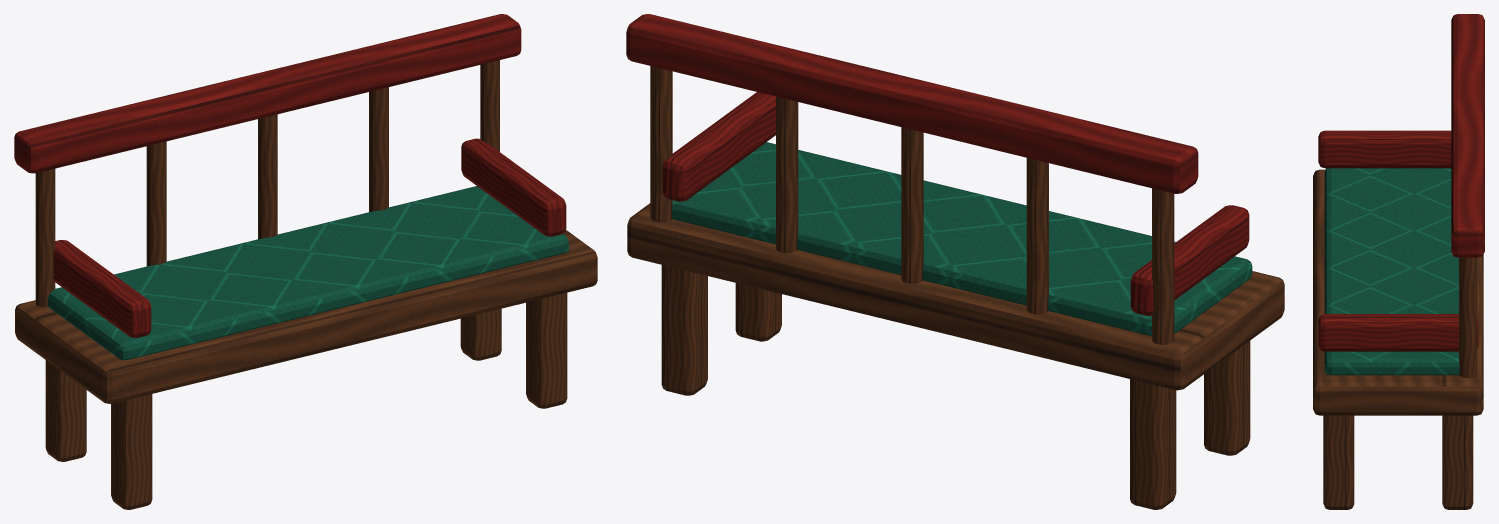
File: court_bench.glb
3 renders of one model, left to right at view 1: azimuth 30°, elevation 25°; view 2: azimuth 150°, elevation 25°; view 3: azimuth 270°, elevation 25°, orthographic. The views are drawn at different scales.
Visible parts, largest first — view 1: court_bench_Walnut, court_bench_Silk, court_bench_Lacquer; view 2: court_bench_Walnut, court_bench_Lacquer, court_bench_Silk; view 3: court_bench_Silk, court_bench_Lacquer, court_bench_Walnut.
Part boxes in pixels (x1=…): court_bench_Walnut: x1=15, y1=60, x2=597, y2=509; court_bench_Silk: x1=47, y1=186, x2=568, y2=360; court_bench_Lacquer: x1=14, y1=14, x2=566, y2=337; court_bench_Walnut: x1=627, y1=66, x2=1284, y2=509; court_bench_Lacquer: x1=626, y1=14, x2=1249, y2=315; court_bench_Silk: x1=672, y1=142, x2=1252, y2=336; court_bench_Silk: x1=1324, y1=168, x2=1459, y2=375; court_bench_Lacquer: x1=1318, y1=14, x2=1484, y2=351; court_bench_Walnut: x1=1313, y1=169, x2=1483, y2=509.
Bounding box in the file's own units: 2 × 1.26 × 0.665.
3 materials, 3 textured.
